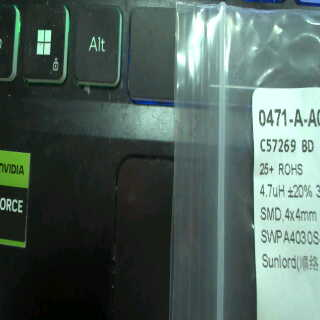4.7uH: (255, 178, 286, 203)
